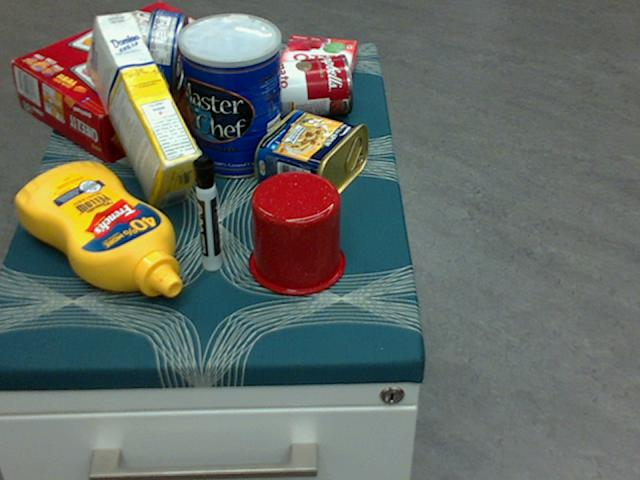cracker_box: (13, 3, 249, 164)
gelatin_box: (278, 37, 357, 85)
large_marker: (192, 155, 221, 269)
master_chef_can: (178, 12, 283, 178)
mug: (246, 169, 345, 294)
mustard_bottle: (15, 162, 181, 296)
potted_meat_can: (254, 107, 368, 206)
sugar_box: (87, 12, 204, 208)
tomato_soup_can: (256, 53, 353, 120)
tuna_fish_can: (142, 7, 187, 92)
